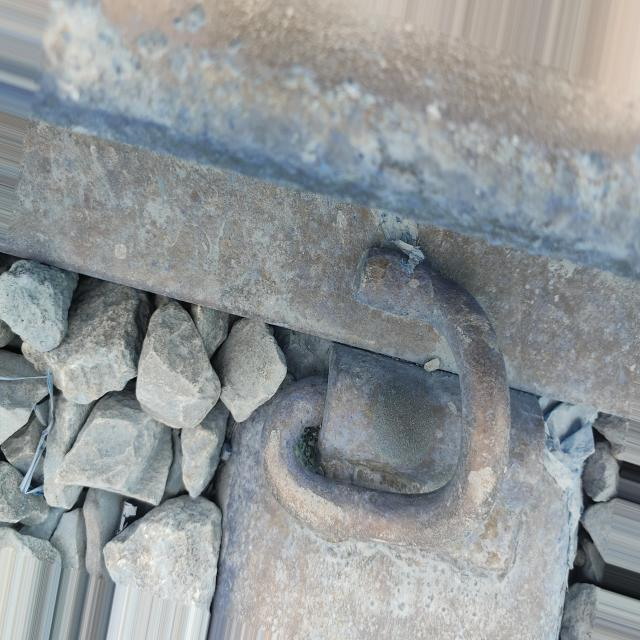Good Fasteners: (253, 238, 567, 573)
